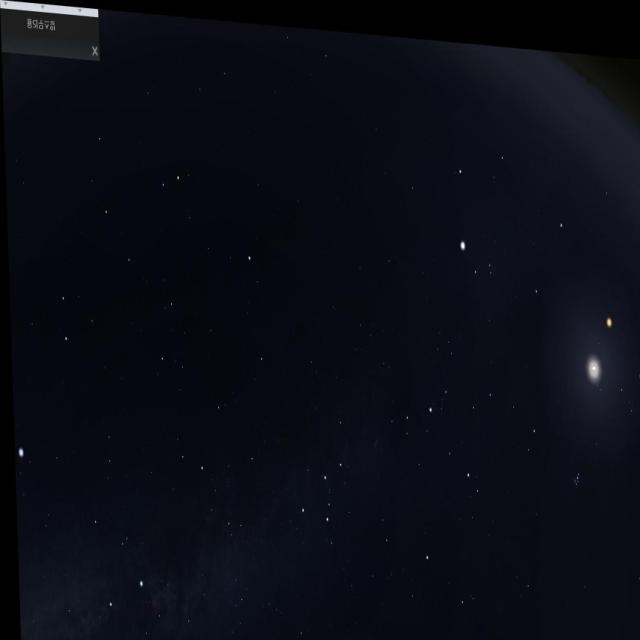moon: (569, 307, 620, 403)
pleiades: (565, 451, 585, 497)
